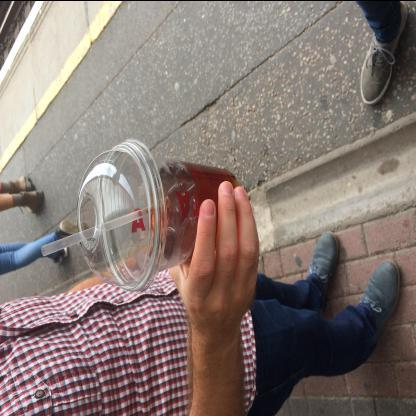plastik: (42, 134, 240, 294)
